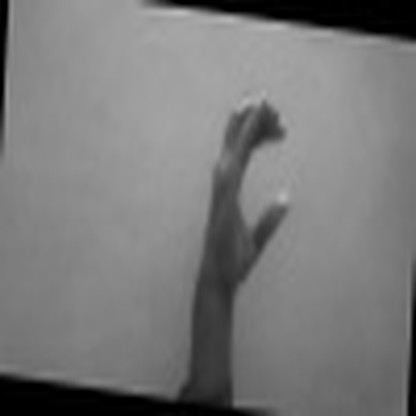c: (195, 88, 297, 286)
